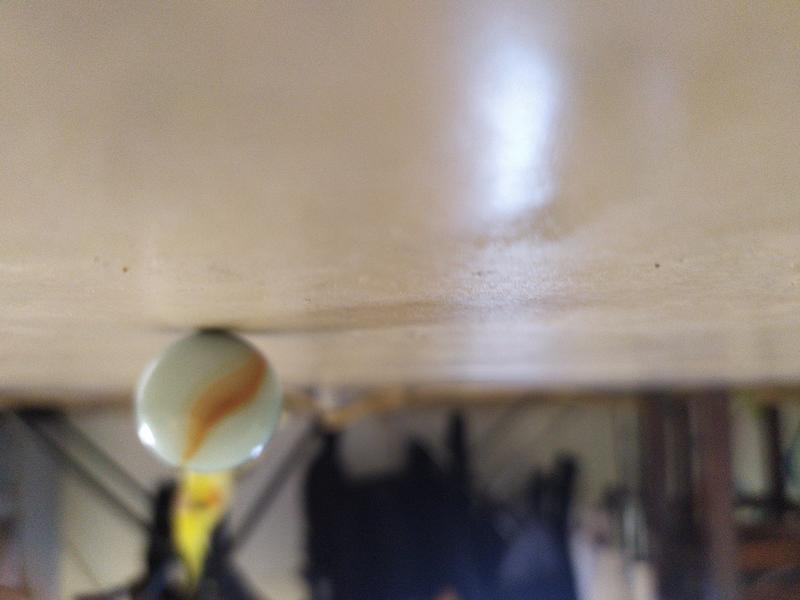Warning: (129, 322, 290, 476)
